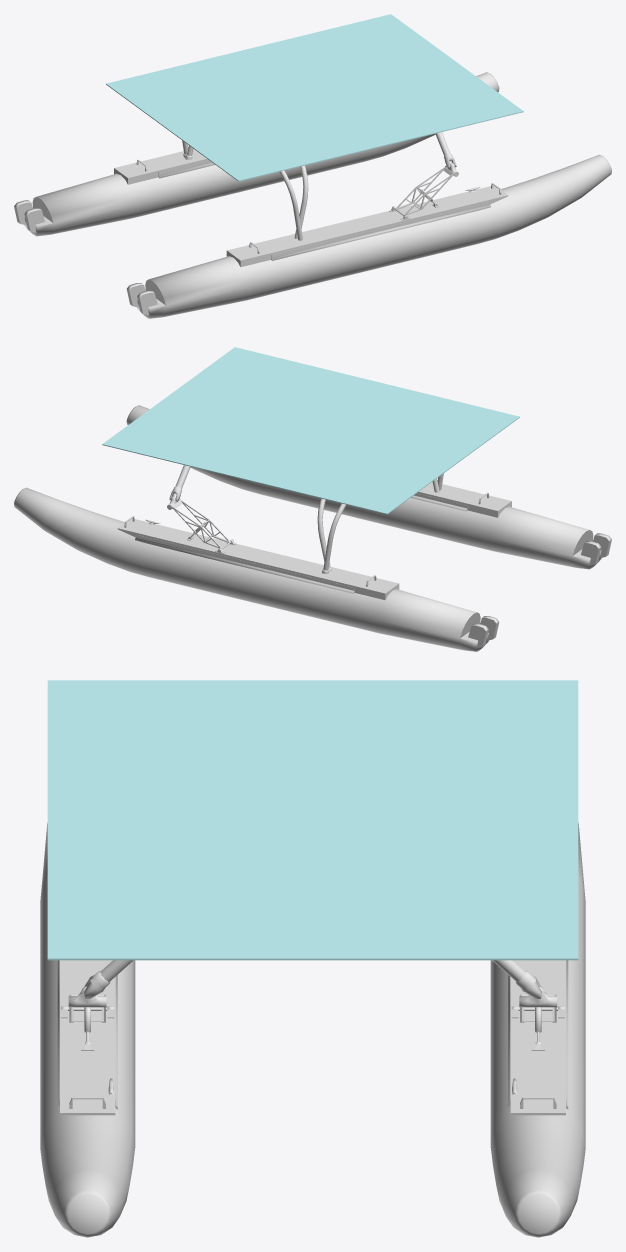
Rendered from WAM-V-without-color-base.dae.
3 views of the same model, one above another, from view 1: azimuth 30°, elevation 25°; view 2: azimuth 150°, elevation 25°; view 3: azimuth 270°, elevation 25° (orthographic). The views are drawn at different scales.
Parts seen in each view (by area): view 1: WamV, land_base_plate_1_Body1.009; view 2: WamV, land_base_plate_1_Body1.009; view 3: land_base_plate_1_Body1.009, WamV.
Part boxes in pixels (box(x1,y1,x2,y2)): WamV: box(14, 72, 611, 318); land_base_plate_1_Body1.009: box(106, 14, 523, 181); WamV: box(14, 405, 611, 651); land_base_plate_1_Body1.009: box(102, 347, 519, 514); land_base_plate_1_Body1.009: box(47, 680, 578, 960); WamV: box(40, 822, 585, 1237).
Size of the model in its own units: 5.01 by 2.49 by 1.29.
